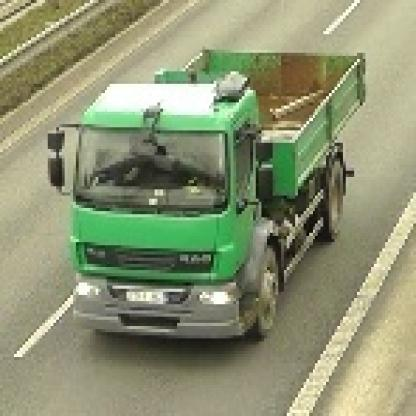truck: (49, 42, 366, 343)
